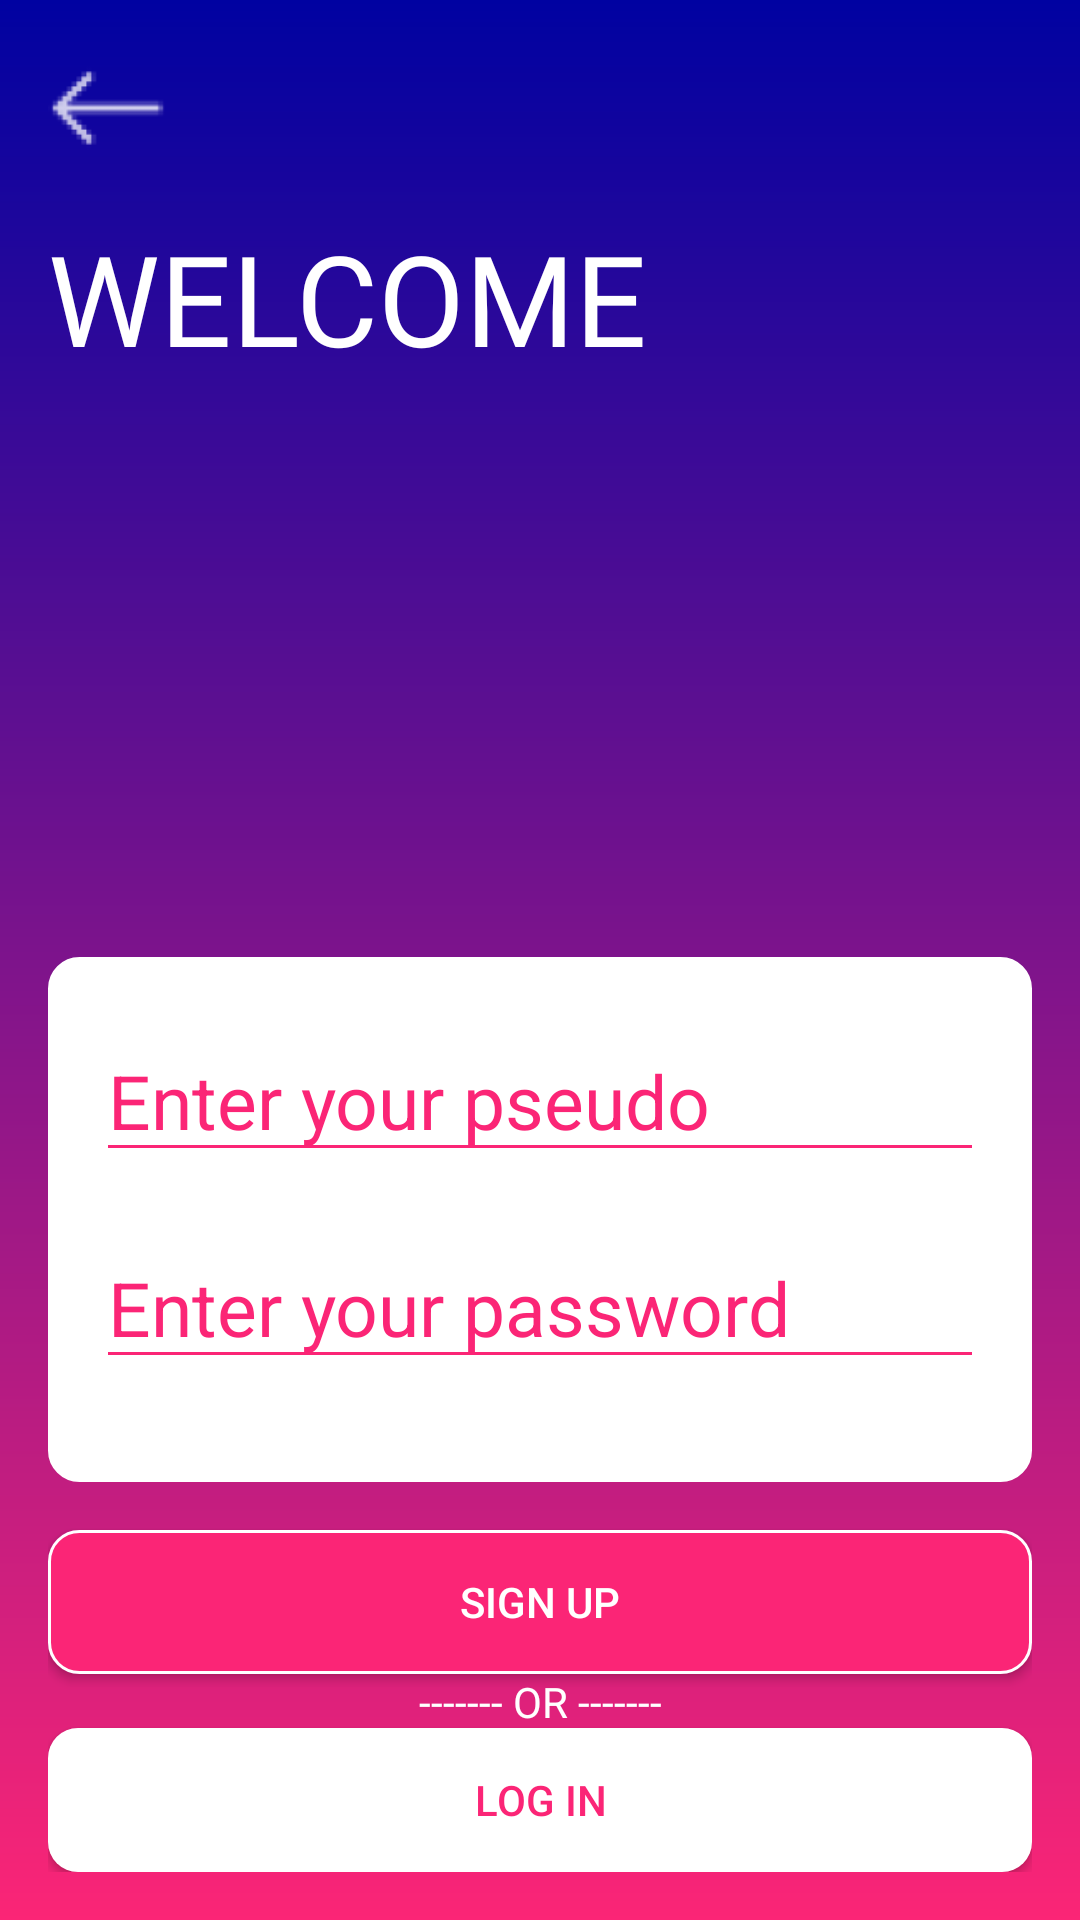

Named icons in this screenshot (1080×1920) and their bounding boxes, bbox=(x1, y1, x2, y2):
Back arrow: bbox=(48, 48, 168, 145)
